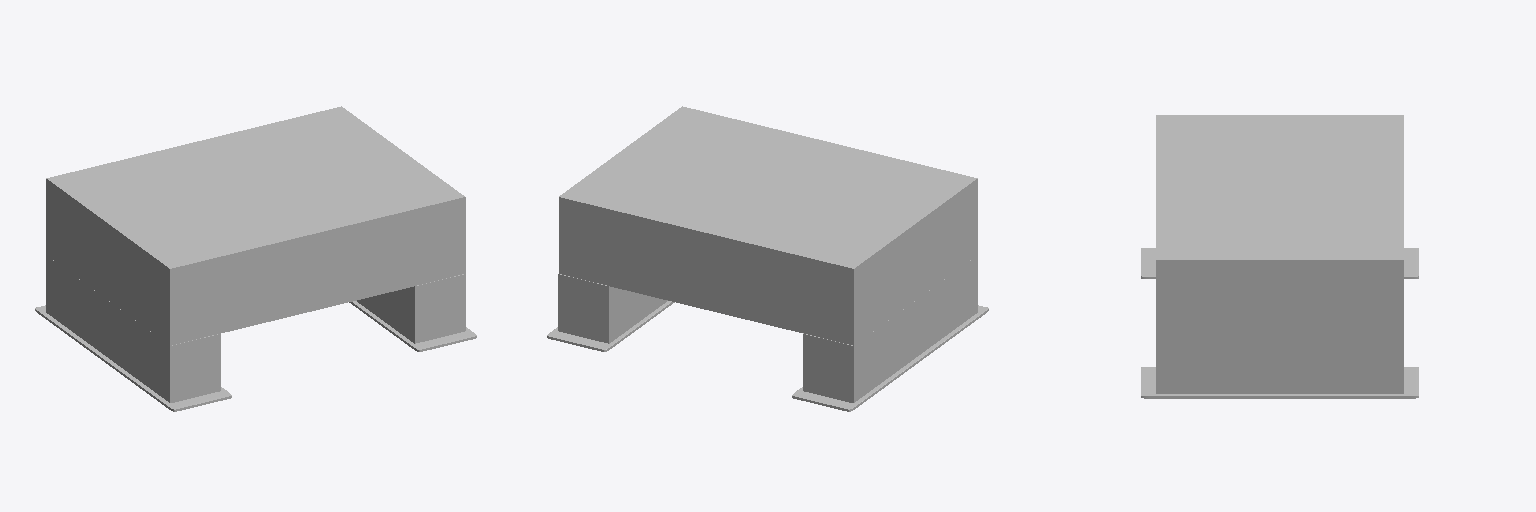
The model's file is bridge.obj.
The picture shows the model from 3 angles: view 1: azimuth 30°, elevation 25°; view 2: azimuth 150°, elevation 25°; view 3: azimuth 270°, elevation 25°; orthographic projection.
Visible parts, largest first — view 1: Cube.004_Cube.005, Cube.002_Cube.003, Cube.003_Cube.004, Cube_Cube.001, Cube.001_Cube.002; view 2: Cube.004_Cube.005, Cube.002_Cube.003, Cube.003_Cube.004, Cube_Cube.001, Cube.001_Cube.002; view 3: Cube.004_Cube.005, Cube.003_Cube.004, Cube.001_Cube.002, Cube_Cube.001.
Boxes of the visible parts, x1=… form: Cube.004_Cube.005: x1=46, y1=106, x2=465, y2=345; Cube.002_Cube.003: x1=46, y1=255, x2=220, y2=402; Cube.003_Cube.004: x1=357, y1=274, x2=465, y2=343; Cube_Cube.001: x1=35, y1=305, x2=231, y2=411; Cube.001_Cube.002: x1=349, y1=301, x2=476, y2=351; Cube.004_Cube.005: x1=559, y1=106, x2=977, y2=345; Cube.002_Cube.003: x1=803, y1=255, x2=977, y2=402; Cube.003_Cube.004: x1=558, y1=274, x2=667, y2=343; Cube_Cube.001: x1=792, y1=305, x2=988, y2=411; Cube.001_Cube.002: x1=547, y1=301, x2=674, y2=351; Cube.004_Cube.005: x1=1156, y1=115, x2=1403, y2=336; Cube.003_Cube.004: x1=1156, y1=337, x2=1403, y2=393; Cube.001_Cube.002: x1=1141, y1=367, x2=1418, y2=398; Cube_Cube.001: x1=1141, y1=248, x2=1418, y2=278.
Bounding box in the file's own units: 255 × 109 × 202.